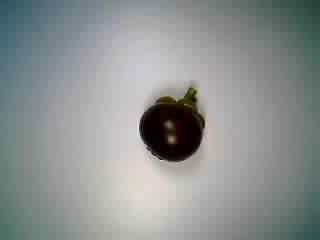mangosteen: (132, 81, 216, 162)
